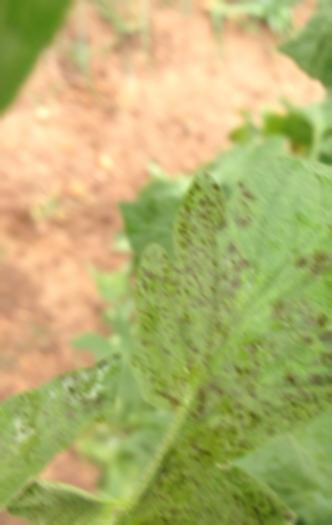Tomato Septoria leaf spot: (144, 167, 332, 446), (0, 347, 114, 523), (31, 464, 316, 525)
